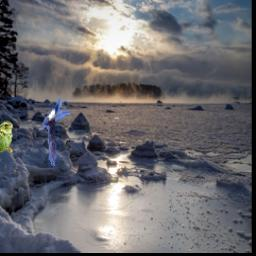Sparrow: (0, 122, 14, 162)
Swallow: (42, 98, 70, 168)
